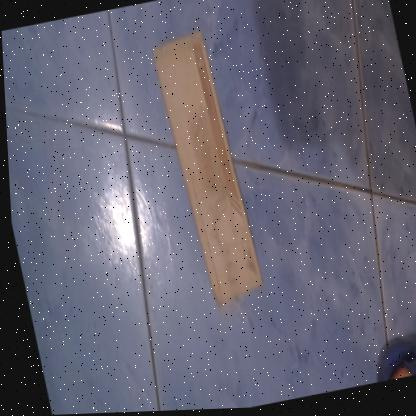five-back-vef: (147, 27, 263, 306)
